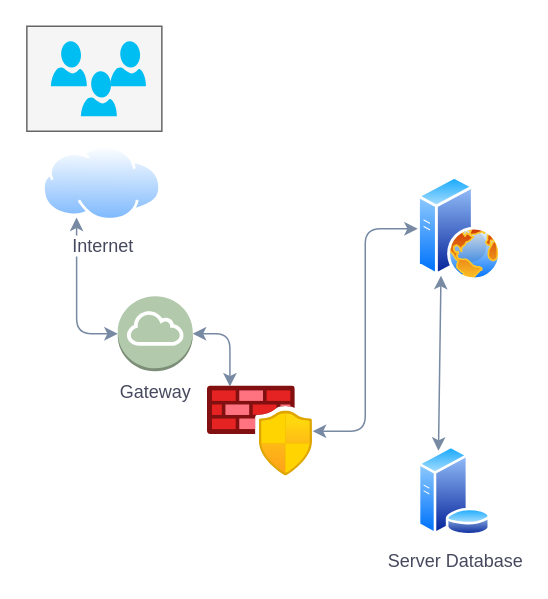
Image size: 548x599. Some labels were removed from this diagram. Here are the shapes that lost their labels. From the top down, the centre of each, then its label:
At (x=459, y=228): "Server Aplikasi".
At (x=259, y=431): "Firewall*".
